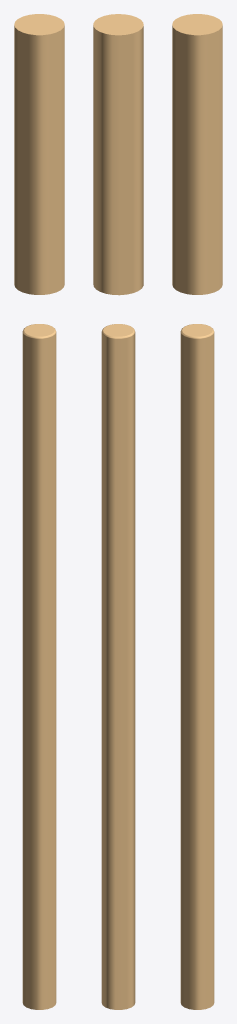
File: ShadedKiraStandGold.glb
3 renders of one model, left to right at view 1: azimuth 90°, elevation 25°; view 2: azimuth 150°, elevation 25°; view 3: azimuth 270°, elevation 25°, orthographic.
Parts seen in each view (by area): view 1: Stand; view 2: Stand; view 3: Stand.
Part boxes in pixels (x1,y1,x2,y2): Stand: [14, 14, 64, 1009]; Stand: [93, 14, 143, 1009]; Stand: [172, 14, 222, 1009].
Bounding box in the file's own units: 0.0148 × 0.32 × 0.015.
